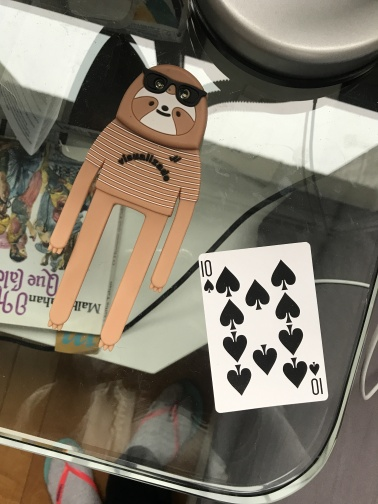ten: (197, 240, 330, 414)
